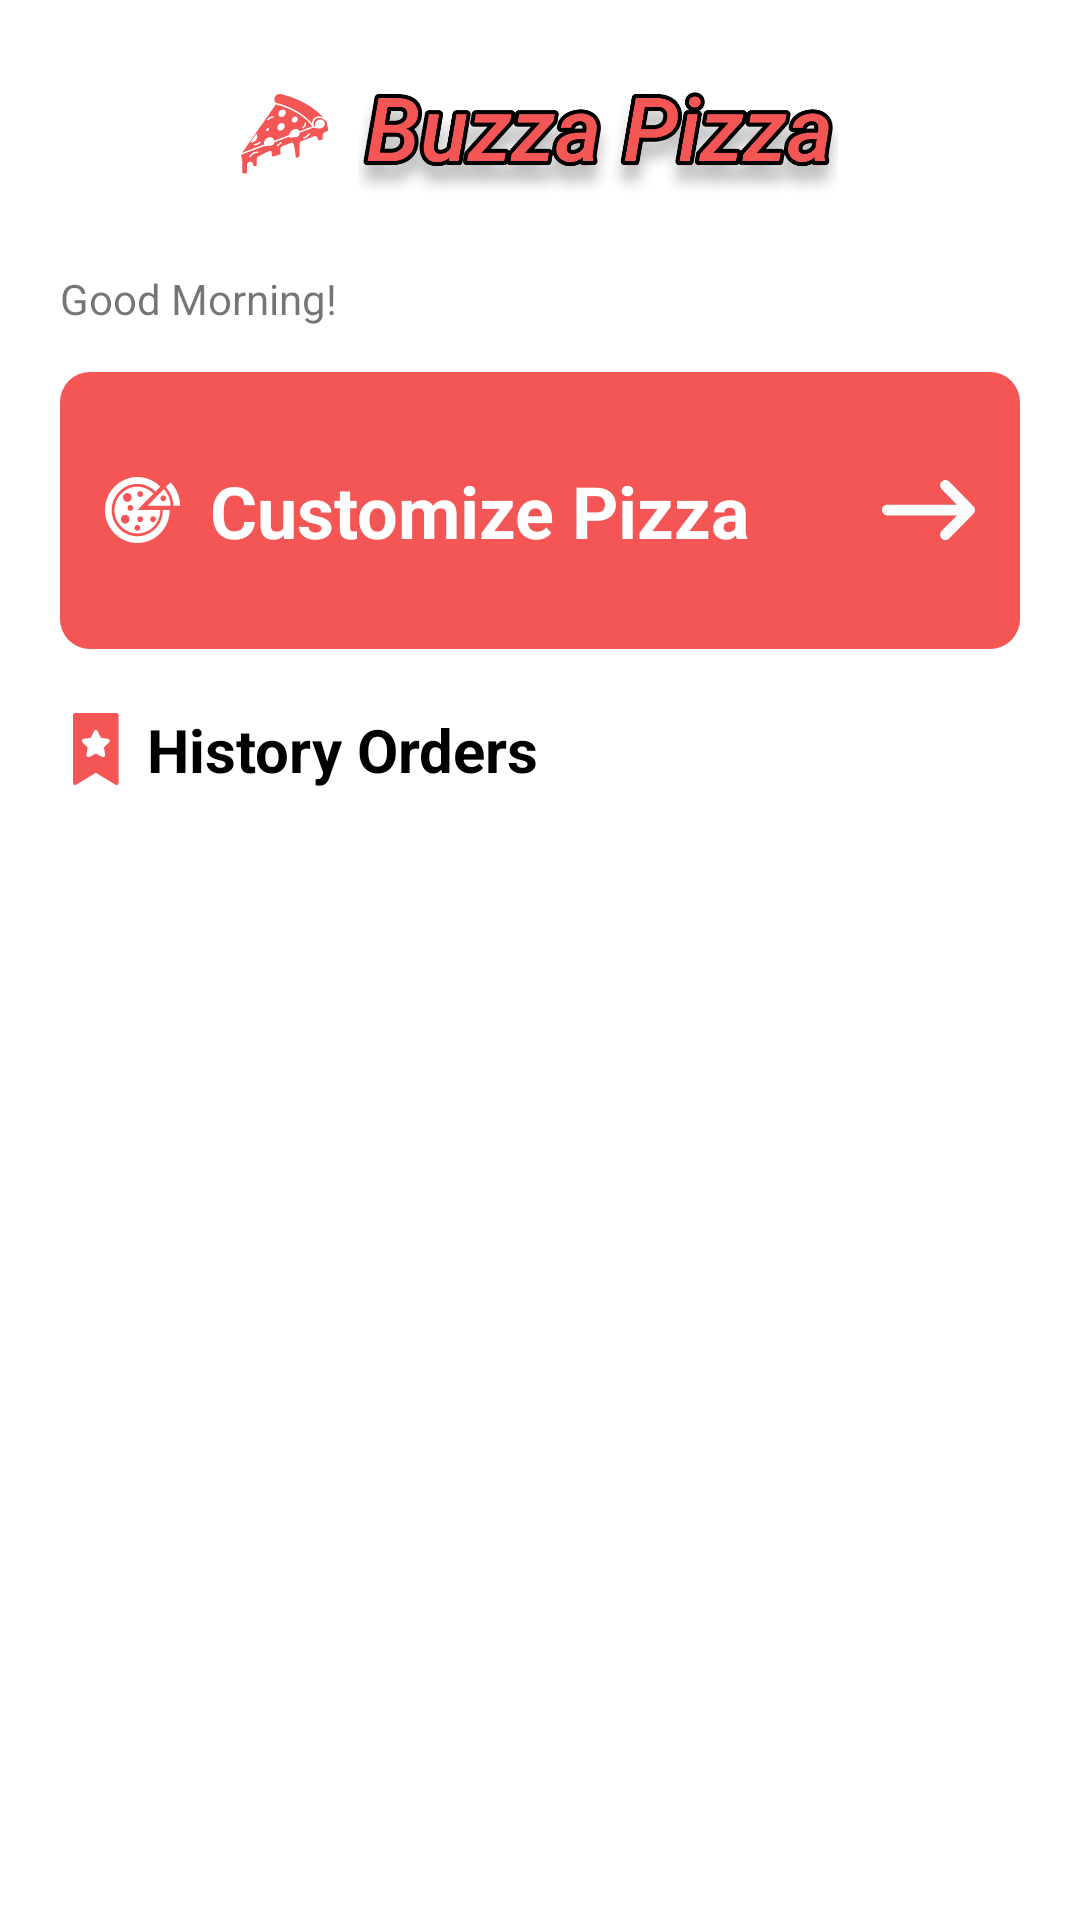

Locate icon controls on the screen. Image size 1080*1920, boxes as [x1,y1,x2,y2].
arrow forward: [882,480,975,540]
flag star: [73,713,119,785]
